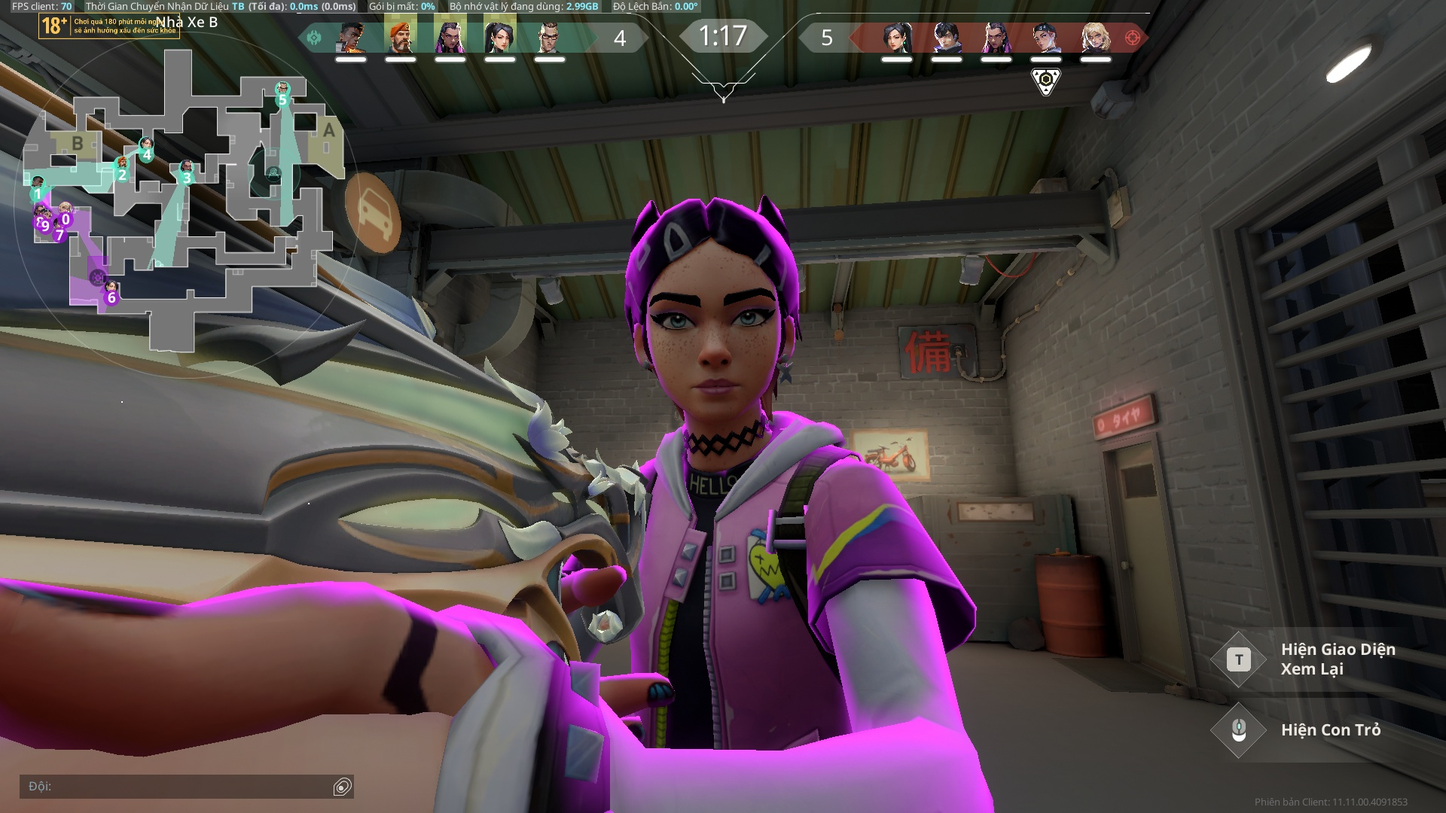body: (575, 418, 915, 711)
head: (621, 199, 802, 415)
